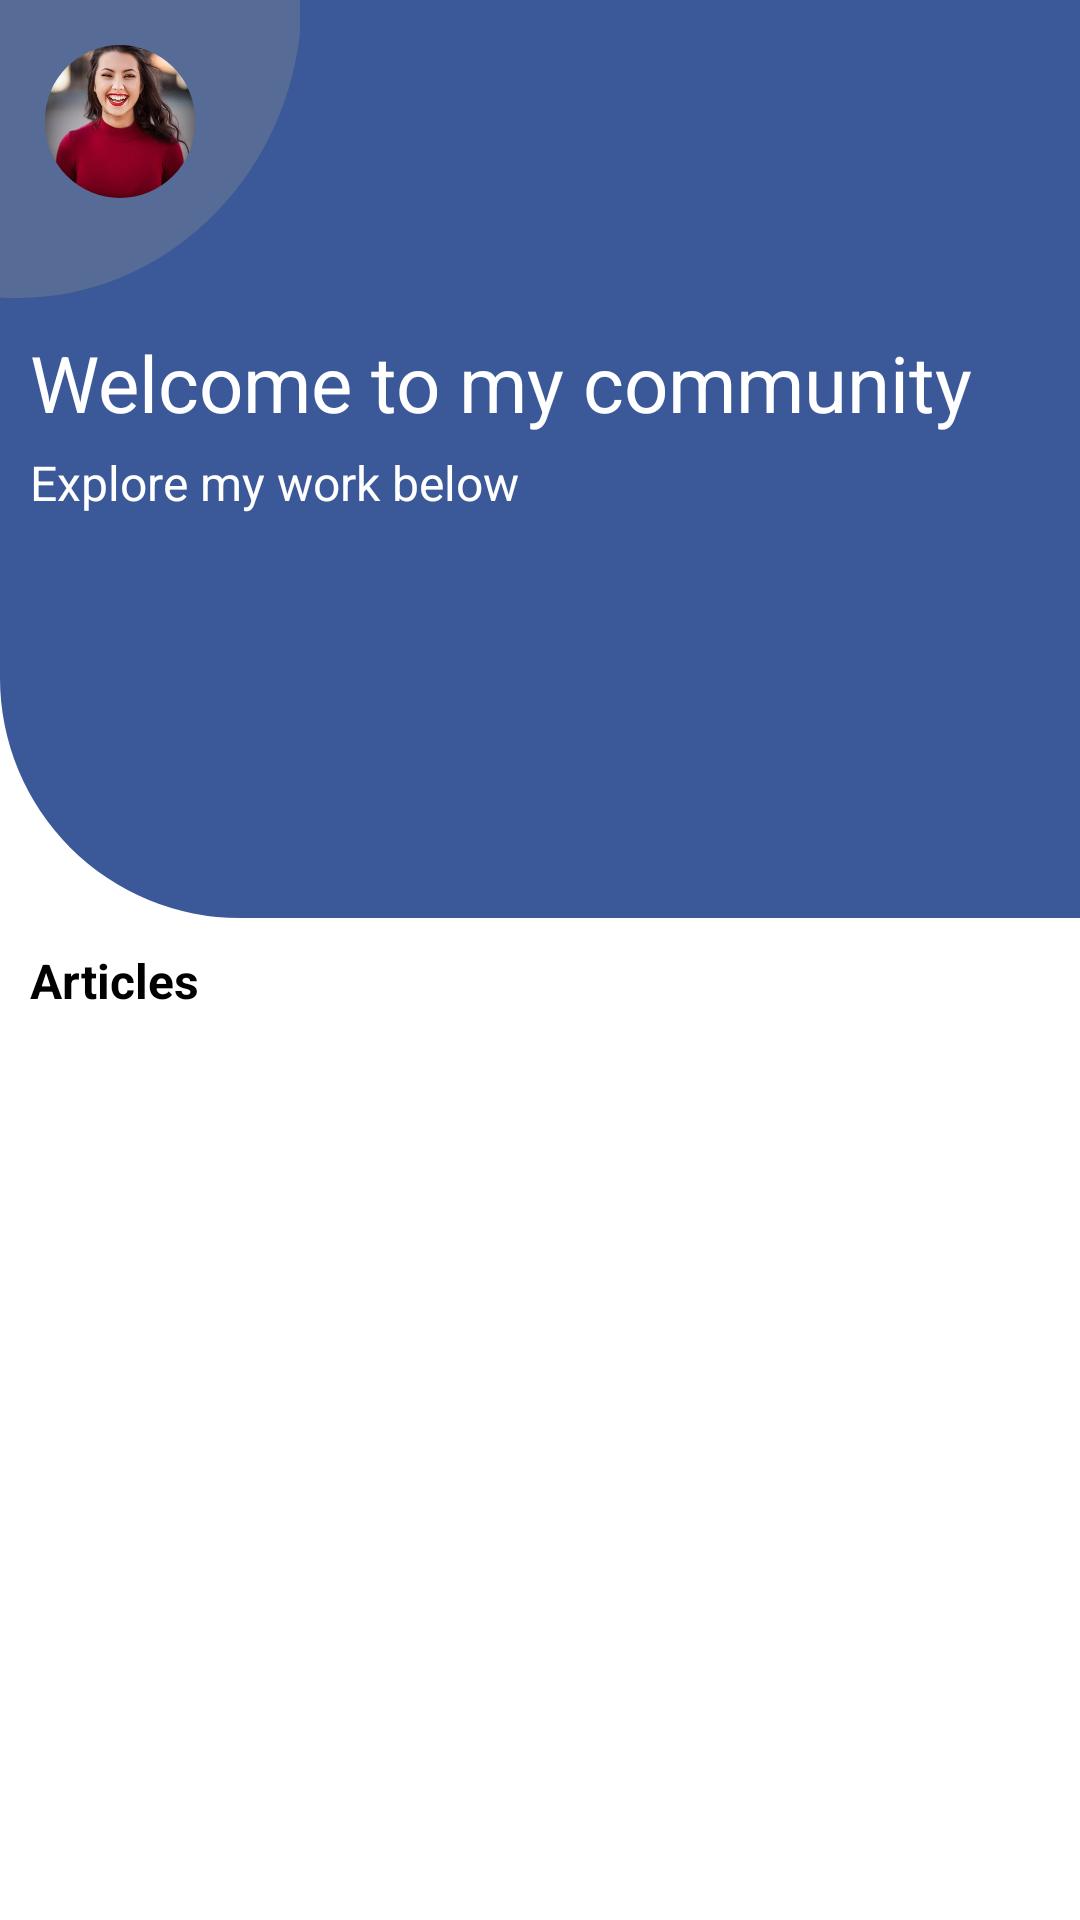

Icons on this 1080×1920 Android screen, each with the point to tap as (x=x, y=y):
girl portrait: (x=120, y=121)
